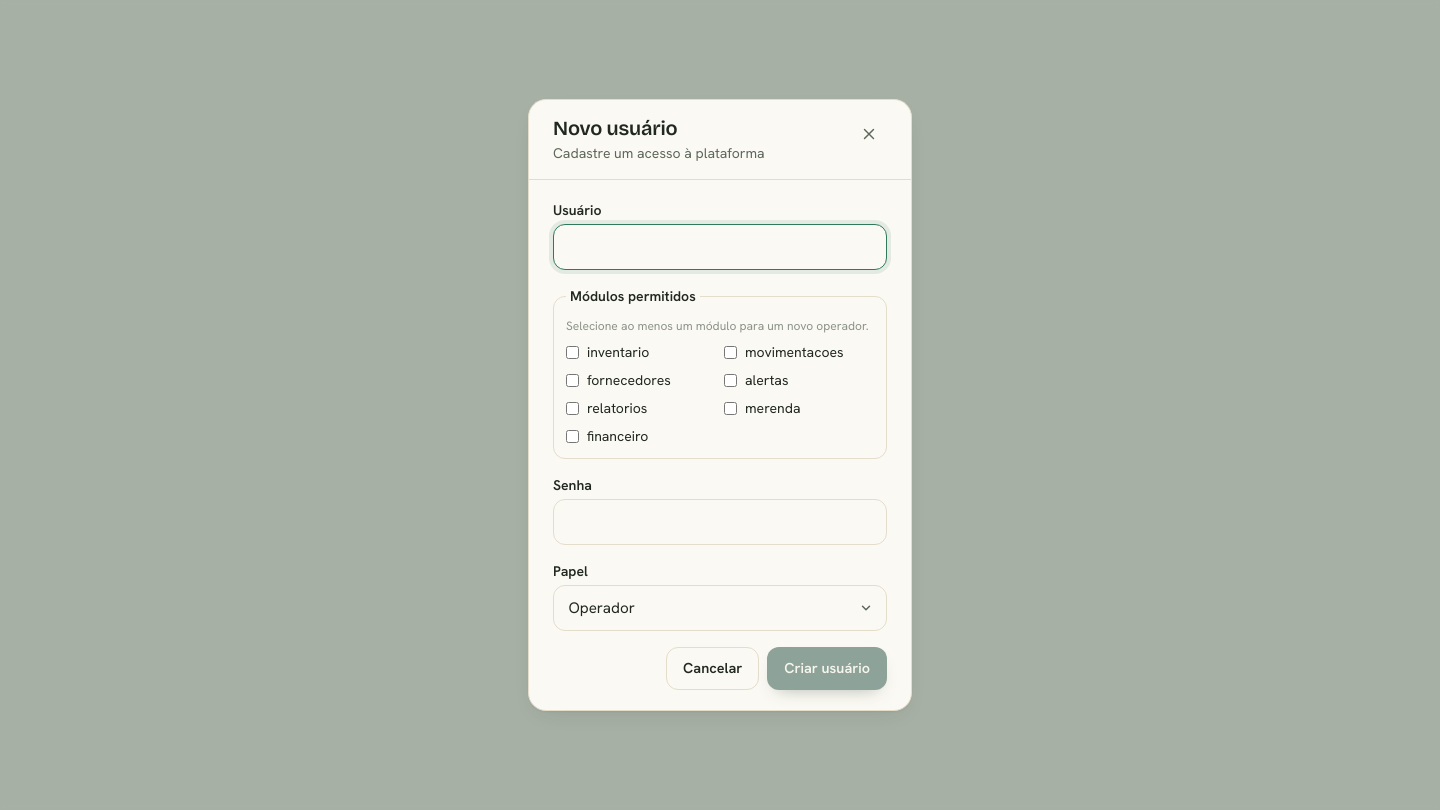
Scenario: NewUserModal › exige ao menos um módulo ao criar um operador
The width and height of the screenshot is (1440, 810).
Expected: the button "Criar usuário" is disabled, [767,647,887,690]
Type "maria" into the field labelled "Usuário".
click(720, 247); type("maria")  # box [553,224,887,270]
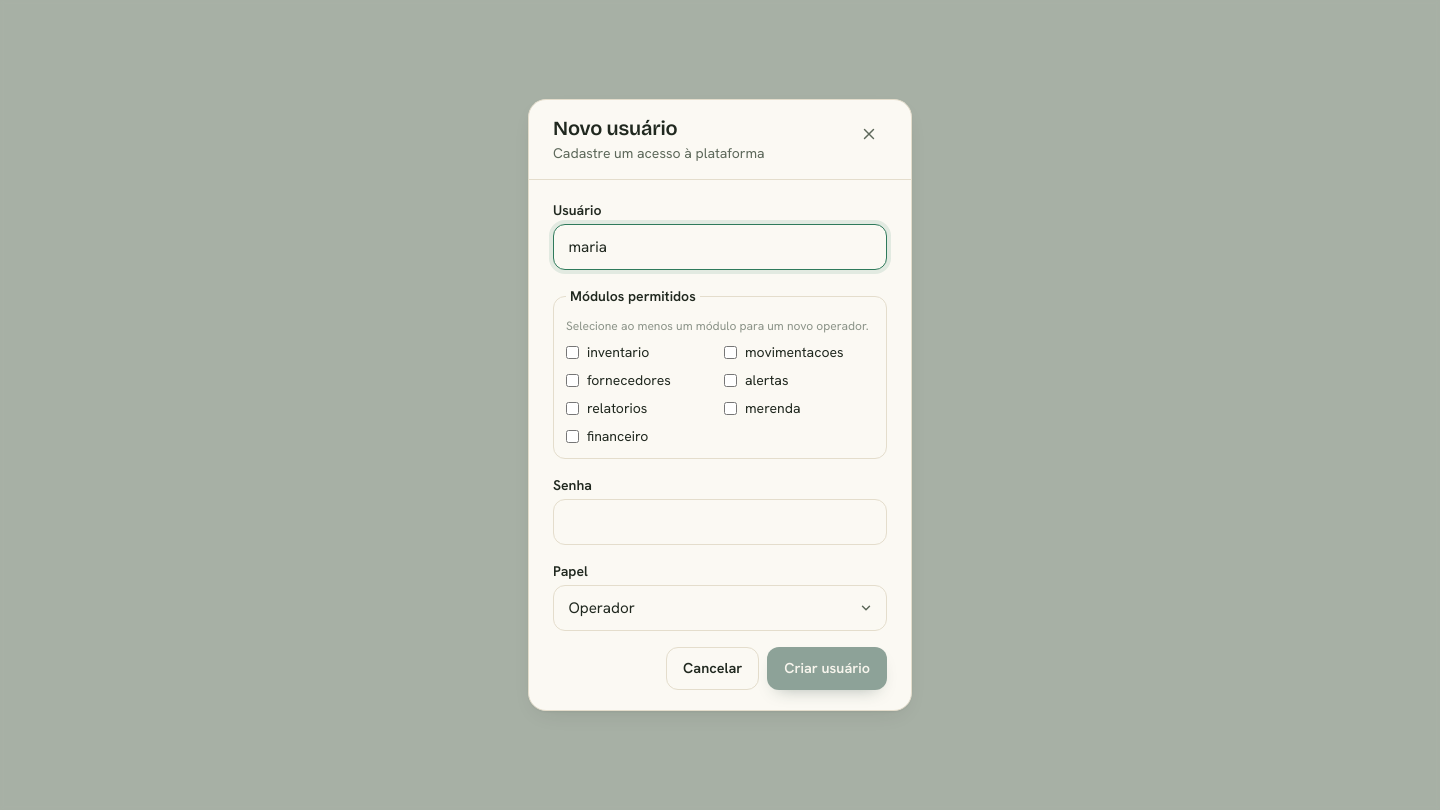
Expected: the button "Criar usuário" is disabled, [767,647,887,690]
Type "senha-boa-123" into the password field labelled "Senha".
click(720, 522); type("senha-boa-123")  # box [553,499,887,545]
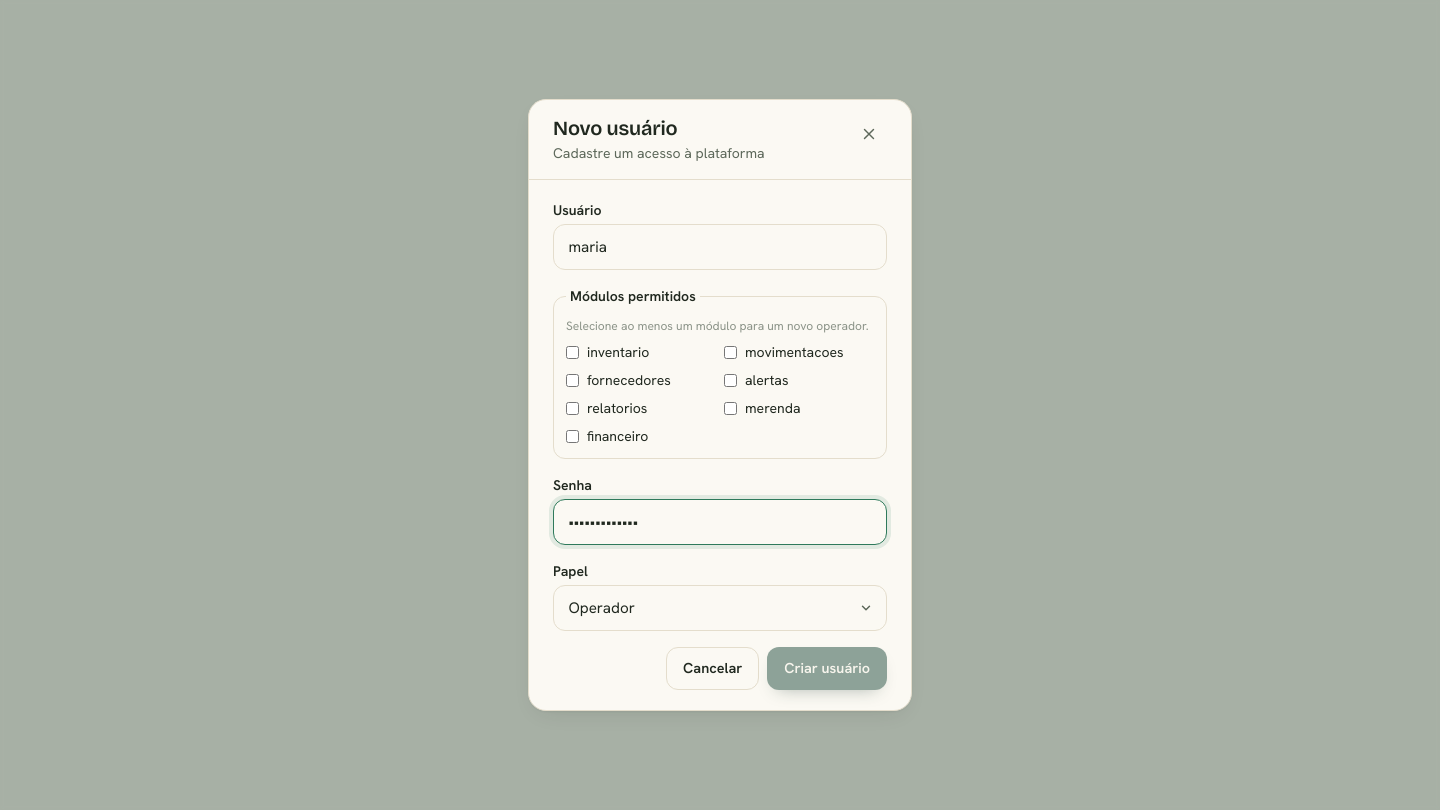
Expected: the button "Criar usuário" is disabled, [767,647,887,690]
Click the checkbox labelled "inventario".
click(572, 352)  # box [566,346,579,359]
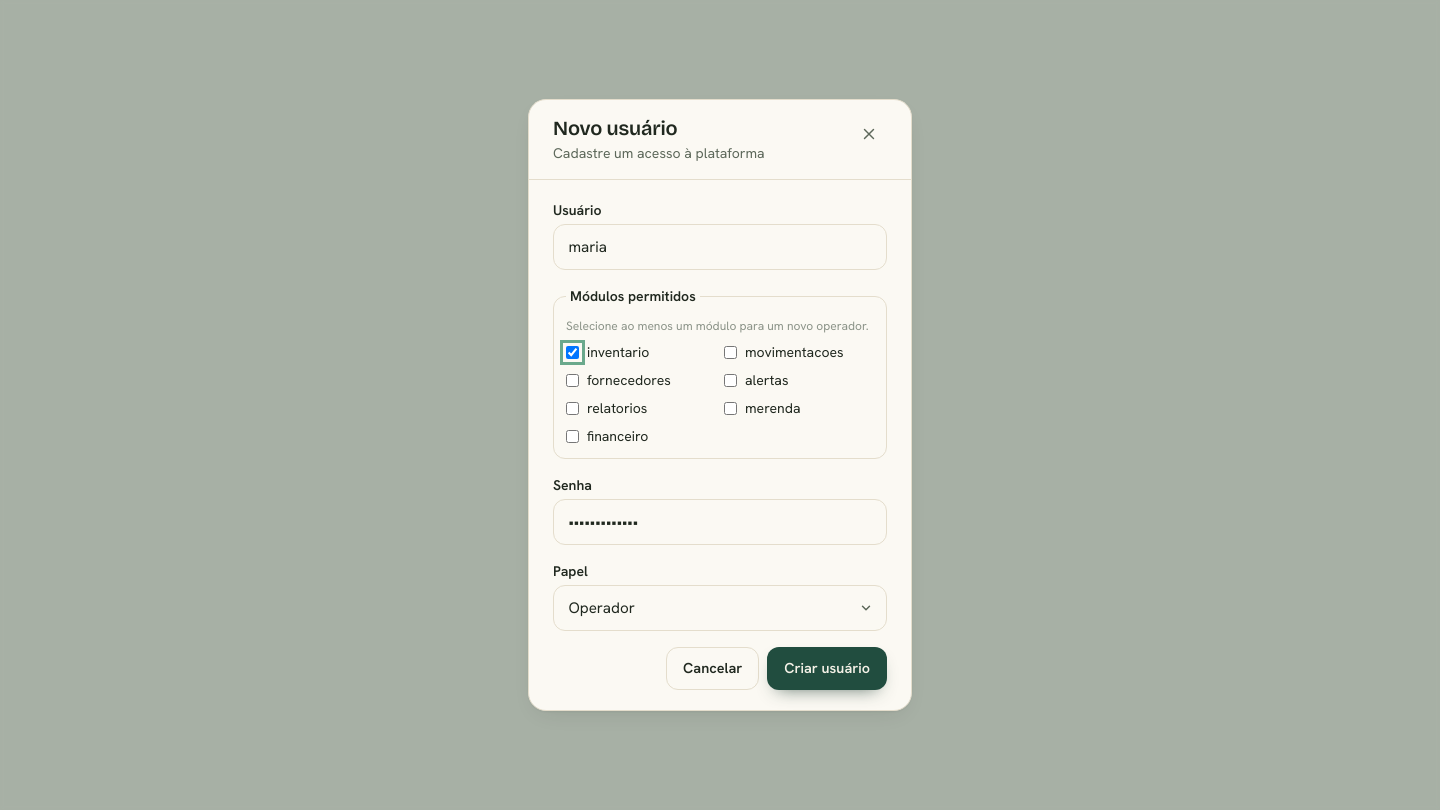
Expected: the button "Criar usuário" is enabled, [767,647,887,690]
